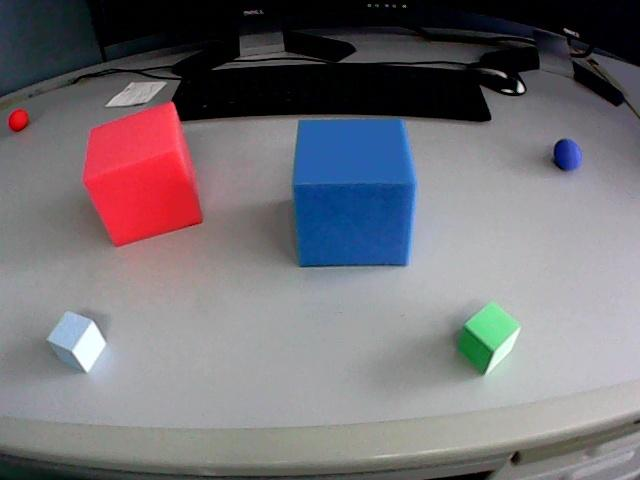blue_block: (293, 119, 416, 265), (47, 312, 105, 372)
red_block: (83, 102, 201, 245)
